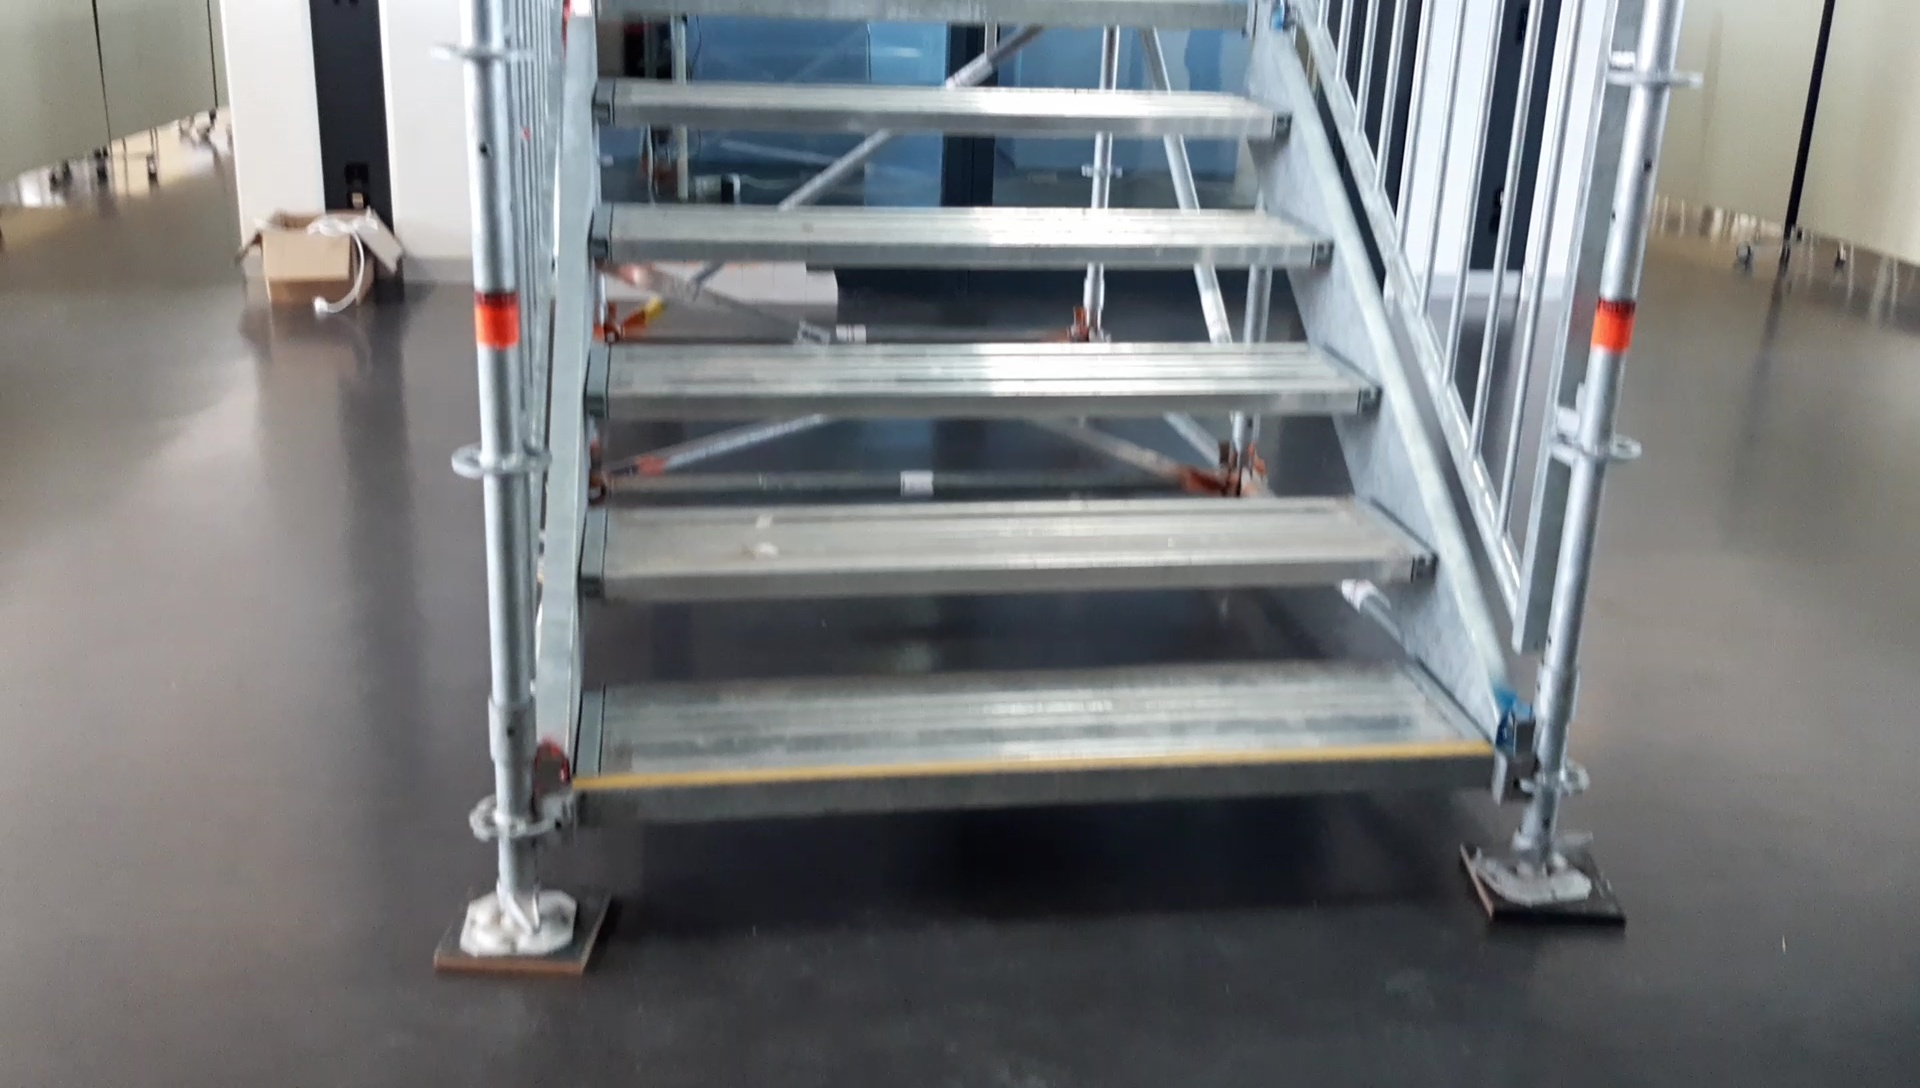edge: (580, 750, 1499, 822), (578, 553, 1435, 600), (589, 98, 1292, 137), (585, 237, 1336, 268), (584, 388, 1381, 415)
stairs: (425, 7, 1625, 975)
steps: (564, 3, 1505, 832)
